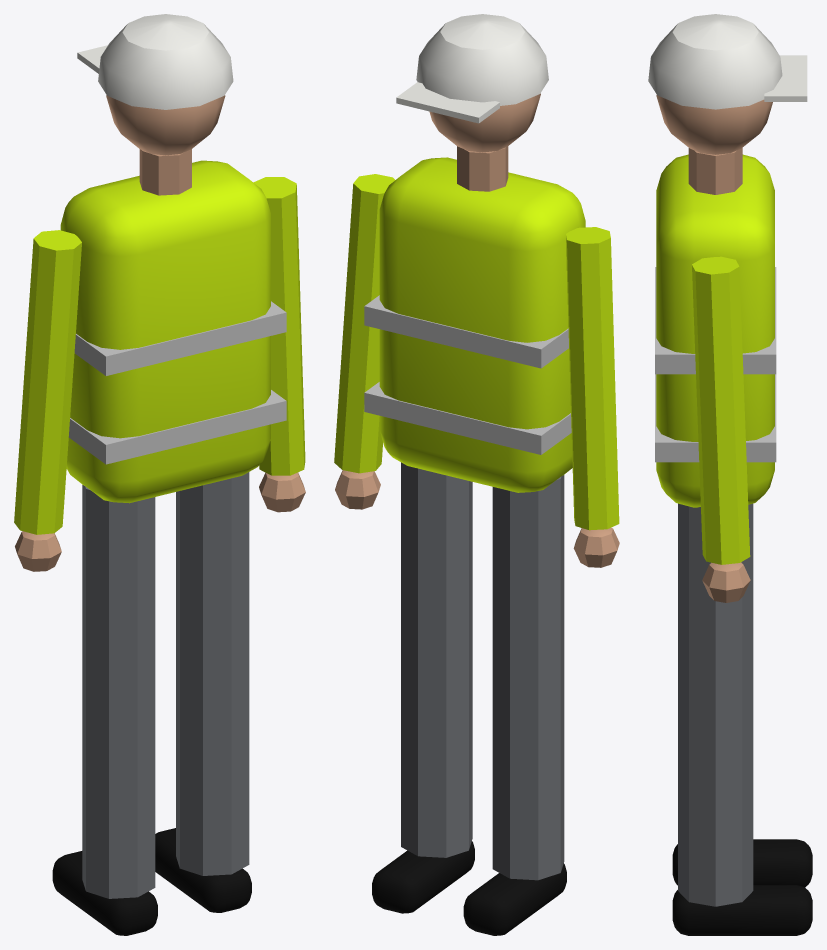
The model's file is people.crew.engineer.glb.
3 renders of one model, left to right at view 1: azimuth 30°, elevation 25°; view 2: azimuth 150°, elevation 25°; view 3: azimuth 270°, elevation 25°, orthographic. The views are drawn at different scales.
Visible parts, largest first — view 1: main__hivis_yellow, main__fabric_grey, main__paint_white, main__steel_stainless, main__skin, main__plastic_black; view 2: main__hivis_yellow, main__fabric_grey, main__paint_white, main__steel_stainless, main__plastic_black, main__skin; view 3: main__hivis_yellow, main__fabric_grey, main__paint_white, main__plastic_black, main__skin, main__steel_stainless.
Part boxes in pixels (x1=…): main__hivis_yellow: x1=14, y1=160, x2=305, y2=534; main__fabric_grey: x1=82, y1=472, x2=249, y2=898; main__paint_white: x1=77, y1=14, x2=233, y2=109; main__steel_stainless: x1=68, y1=301, x2=286, y2=464; main__skin: x1=15, y1=95, x2=305, y2=571; main__plastic_black: x1=52, y1=828, x2=251, y2=935; main__hivis_yellow: x1=334, y1=157, x2=619, y2=530; main__fabric_grey: x1=401, y1=462, x2=564, y2=880; main__paint_white: x1=396, y1=14, x2=548, y2=123; main__steel_stainless: x1=364, y1=295, x2=571, y2=454; main__plastic_black: x1=372, y1=841, x2=566, y2=935; main__skin: x1=335, y1=93, x2=619, y2=567; main__hivis_yellow: x1=656, y1=154, x2=774, y2=564; main__fabric_grey: x1=678, y1=503, x2=753, y2=906; main__paint_white: x1=648, y1=14, x2=807, y2=109; main__plastic_black: x1=672, y1=839, x2=812, y2=935; main__skin: x1=656, y1=95, x2=772, y2=602; main__steel_stainless: x1=655, y1=267, x2=776, y2=462.
Size of the model in its own units: 0.61 by 1.81 by 0.305.
